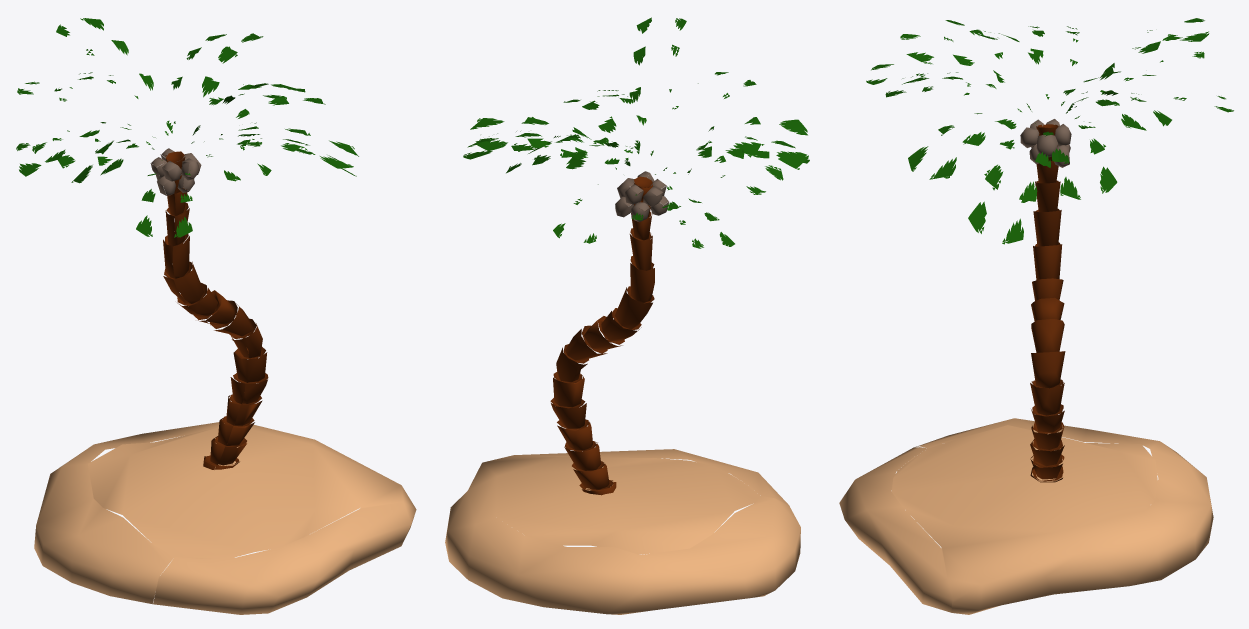
Rendered from palm_tree.glb.
3 renders of one model, left to right at view 1: azimuth 30°, elevation 25°; view 2: azimuth 150°, elevation 25°; view 3: azimuth 270°, elevation 25°, orthographic. The views are drawn at different scales.
Parts seen in each view (by area): view 1: PalmTree; view 2: PalmTree; view 3: PalmTree.
Part boxes in pixels (x1=…): PalmTree: x1=16, y1=18, x2=416, y2=614; PalmTree: x1=445, y1=17, x2=809, y2=614; PalmTree: x1=839, y1=18, x2=1233, y2=614.
Size of the model in its own units: 4.06 by 5.85 by 4.1.
